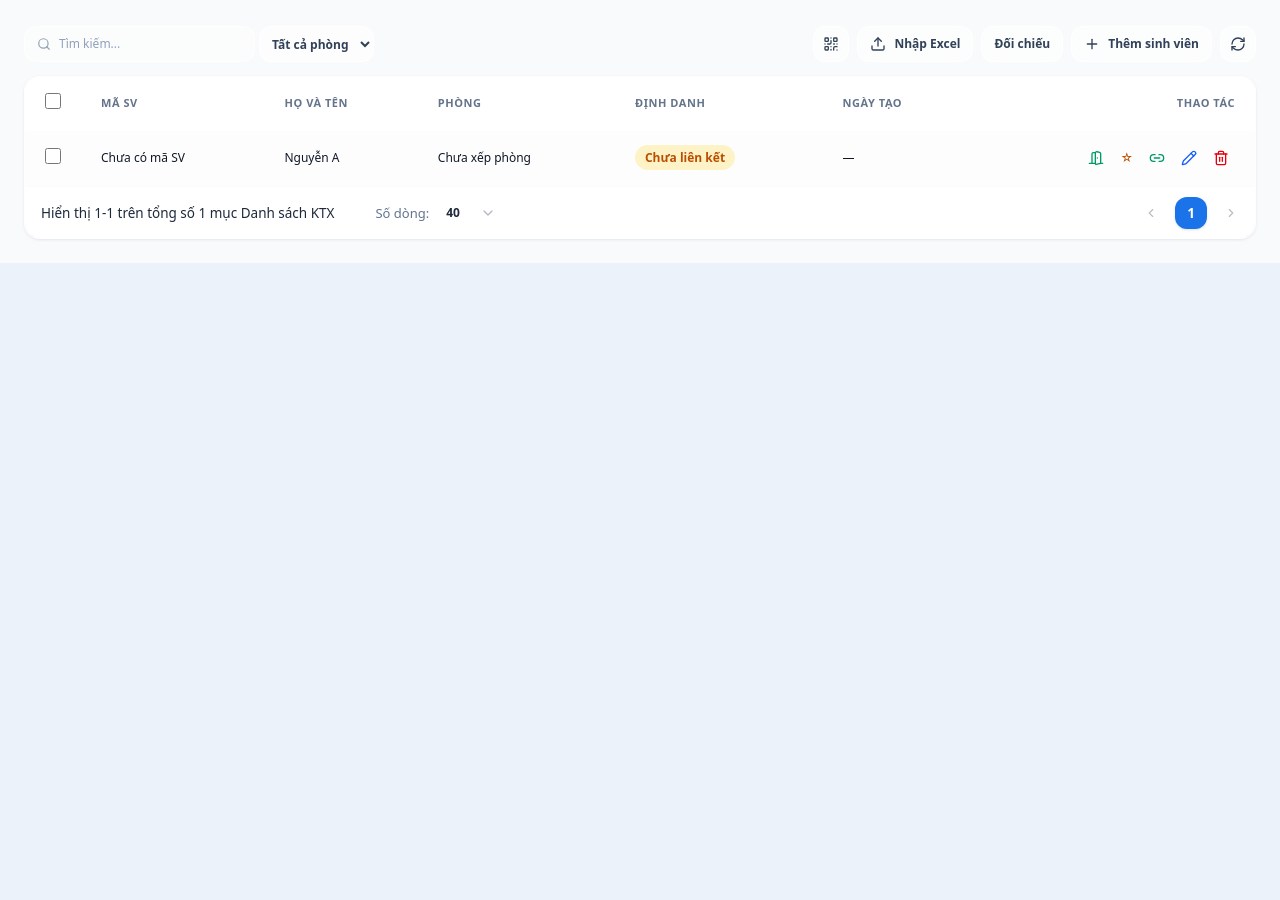
Test: Danh sách KTX canonical page capabilities › retains the prior leader state and reports a failed mutation
Click the button named "Chọn trưởng phòng cho Nguyễn A" at (1127, 158), box [1114,144,1139,172]
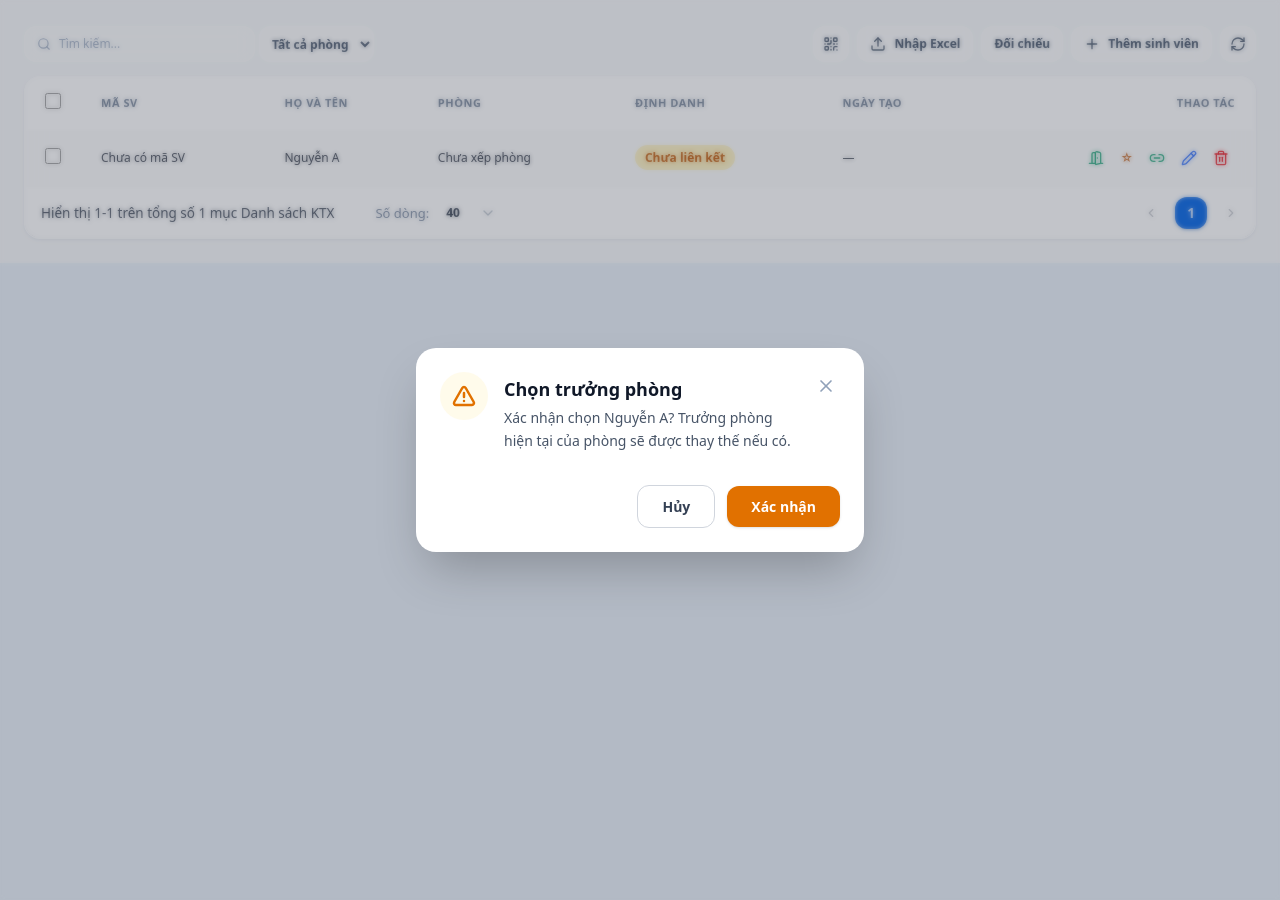
Click the button "Xác nhận" at (784, 506), box [727,486,840,527]
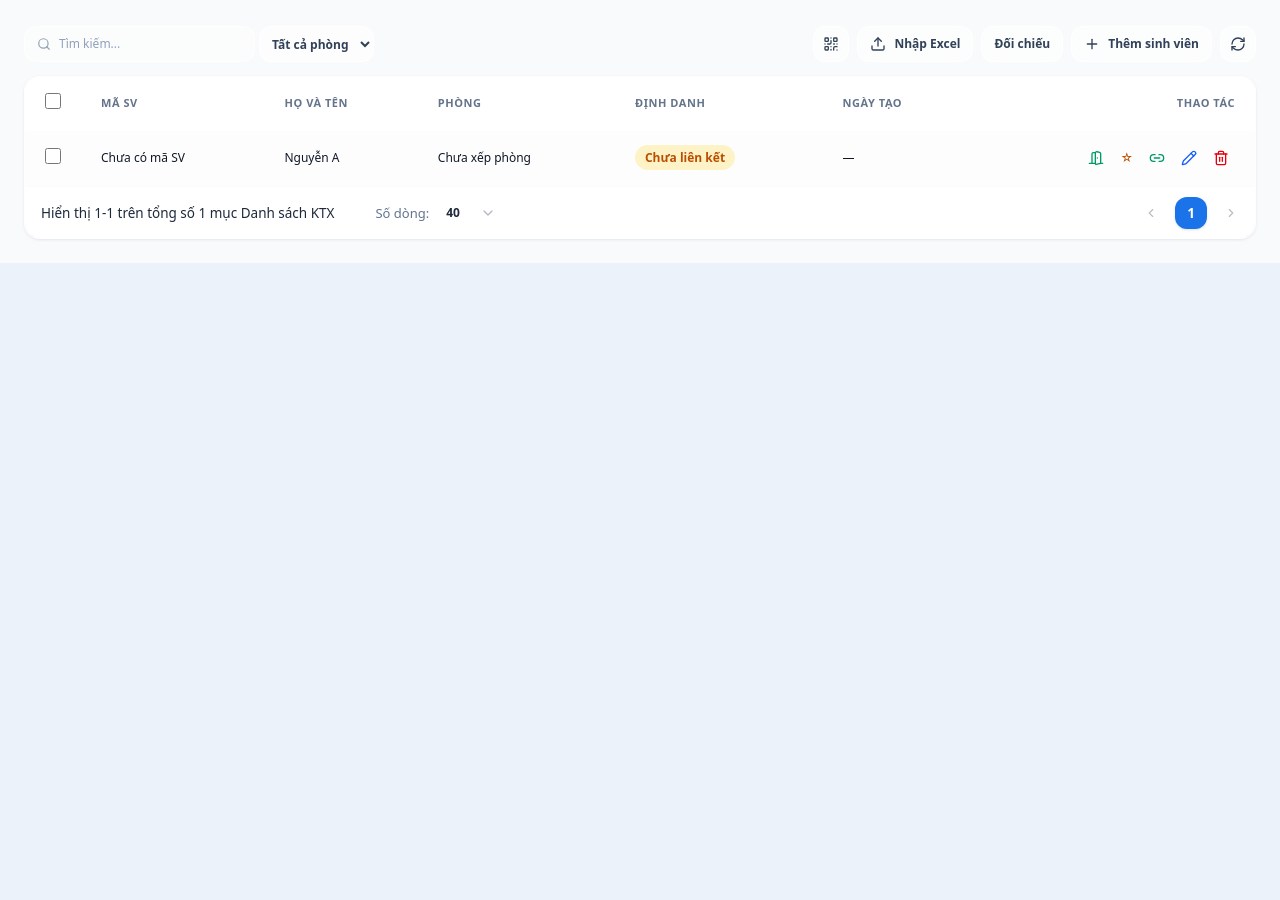
Now the heading labelled "trưởng phòng" is gone
